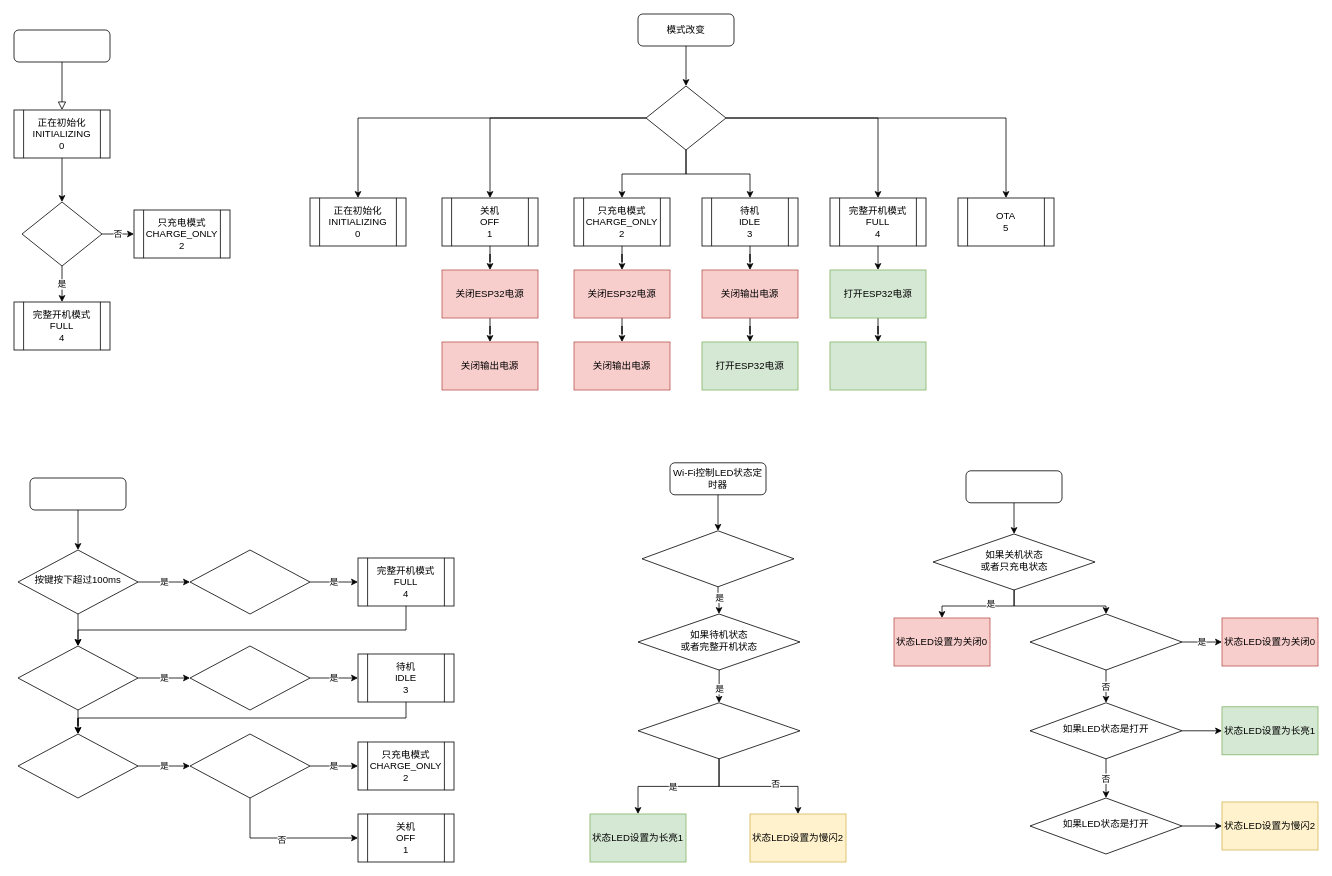
Some shapes in this 1332 by 876 pixel diagram are drawn without their labels. Each missing label, with the centre of its shape:
LED状态控制定时器: the point at 1013,486
外接插入: the point at 249,765
如果LED状态是关闭: the point at 1105,641
如果Wi-Fi链接状态变化: the point at 717,558
如果模式是: the point at 685,117
完整开机模式: the point at 249,677
已连接: the point at 718,730
待机状态 或者关机状态 或者只充电状态: the point at 249,581
打开输出电源: the point at 877,365
按键按下超过2s: the point at 77,677
按键按下超过3s: the point at 77,765
按键是否按下: the point at 61,233
按键状态变化: the point at 77,493
通电: the point at 61,45
